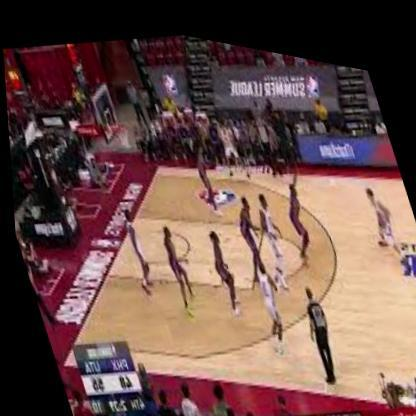basketball: (373, 198, 386, 215)
rim: (110, 115, 127, 133)
